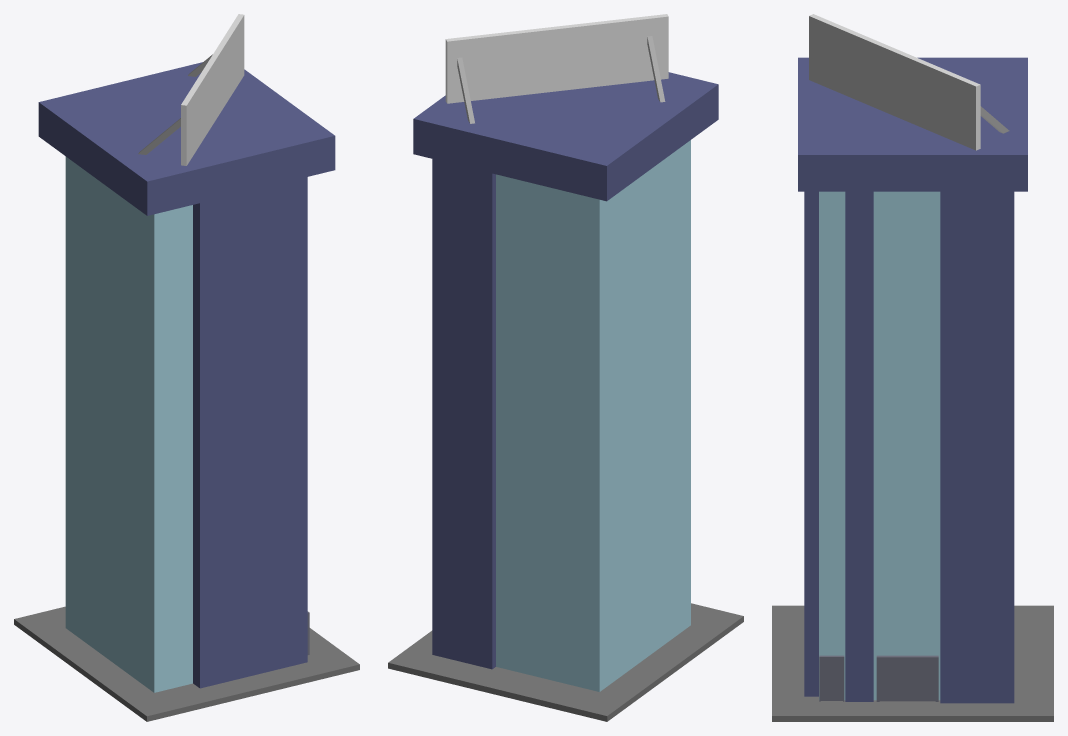
The picture shows the model from 3 angles, left to right: view 1: azimuth 30°, elevation 25°; view 2: azimuth 150°, elevation 25°; view 3: azimuth 270°, elevation 25°; orthographic projection. The views are drawn at different scales.
Visible parts, largest first — view 1: ss1; view 2: ss1; view 3: ss1.
Part boxes in pixels (x1,y1,x2,y2): ss1: [14, 14, 359, 721]; ss1: [388, 14, 743, 721]; ss1: [772, 14, 1053, 721].
Size of the model in its own units: 5.55 by 14.7 by 6.
